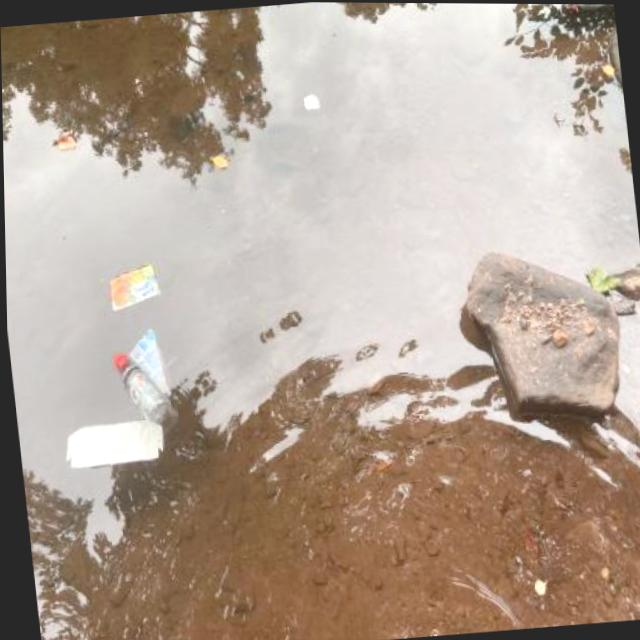Cardboard: (101, 256, 162, 313)
Paper: (52, 407, 170, 475)
Plastic: (110, 322, 175, 423)
